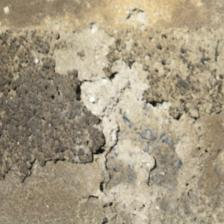Crack: (20, 9, 82, 102), (0, 0, 76, 74), (31, 74, 127, 128)
